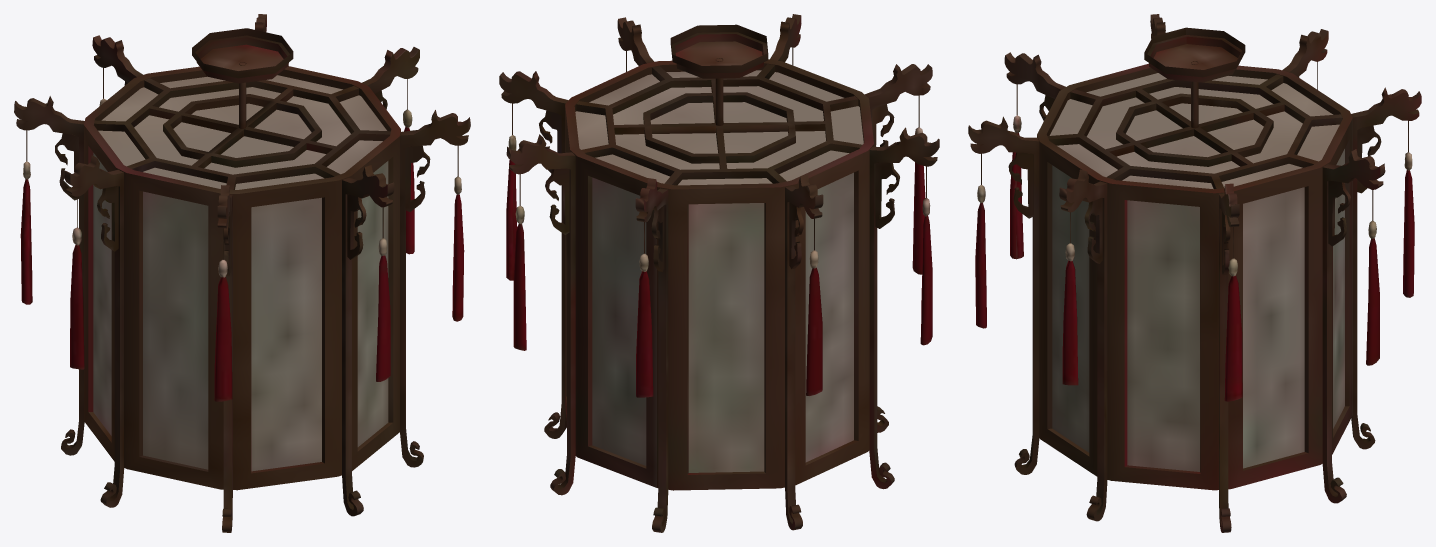
The model's file is ph-chinese-chandelier.glb.
3 views of the same model, side by side, from view 1: azimuth 30°, elevation 25°; view 2: azimuth 150°, elevation 25°; view 3: azimuth 270°, elevation 25° (orthographic).
Parts seen in each view (by area): view 1: chinese_chandelier; view 2: chinese_chandelier; view 3: chinese_chandelier.
Boxes of the visible parts, bbox=[...] form: chinese_chandelier: bbox=[14, 14, 470, 532]; chinese_chandelier: bbox=[499, 14, 939, 532]; chinese_chandelier: bbox=[968, 14, 1421, 532].
Bounding box in the file's own units: 0.9991 × 1 × 0.9991.
Materials: 1 (1 with a texture image).
